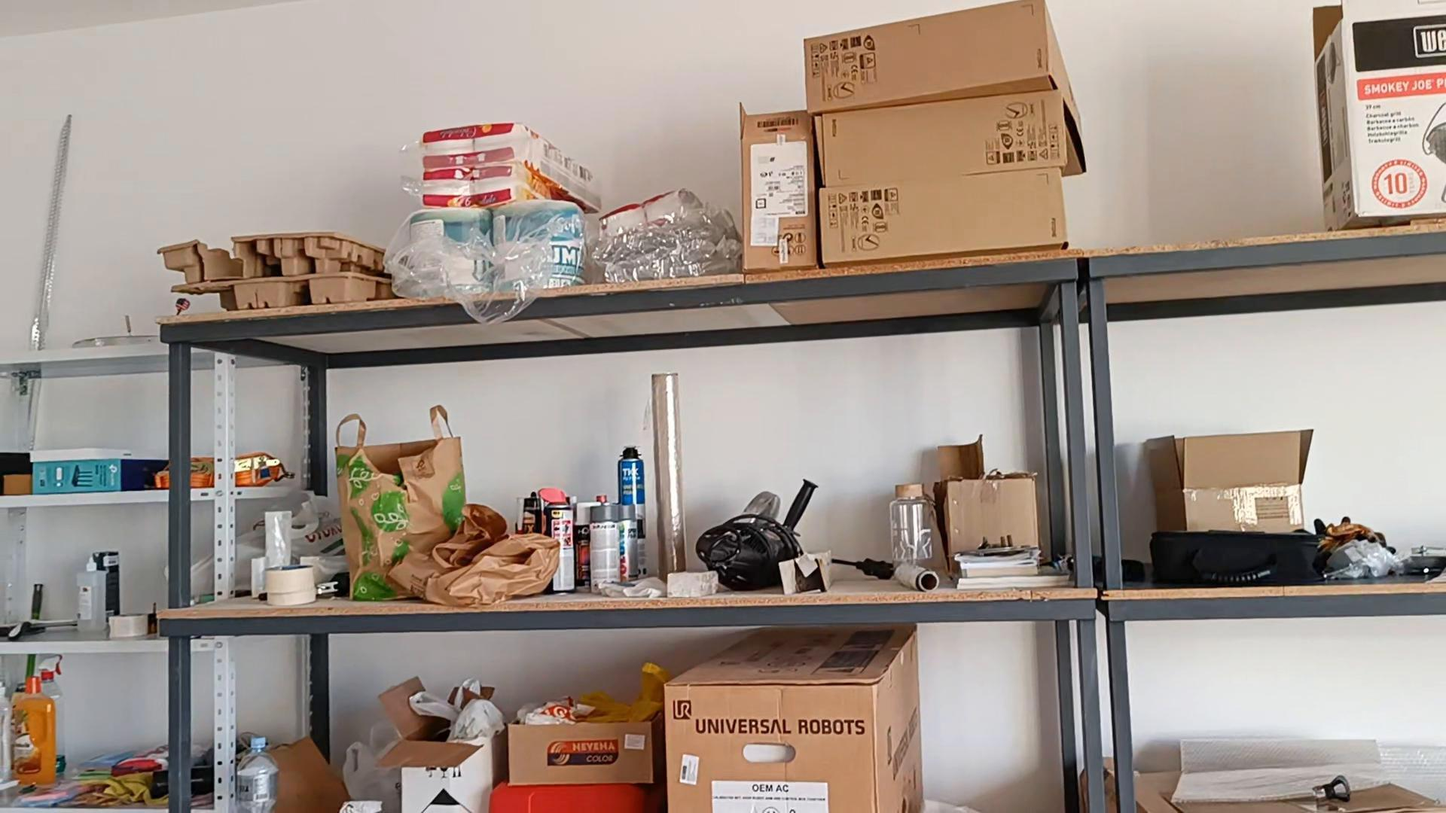wall: (14, 6, 951, 346), (341, 336, 1023, 533), (1120, 307, 1438, 532), (1076, 15, 1320, 236), (1131, 622, 1433, 757), (925, 634, 1052, 798)
